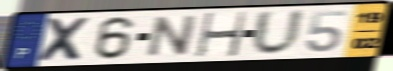5: (304, 9, 349, 54)
6: (91, 15, 138, 61)
H: (194, 10, 249, 59)
N: (143, 14, 202, 59)
U: (249, 8, 307, 58)
X: (35, 16, 95, 63)
